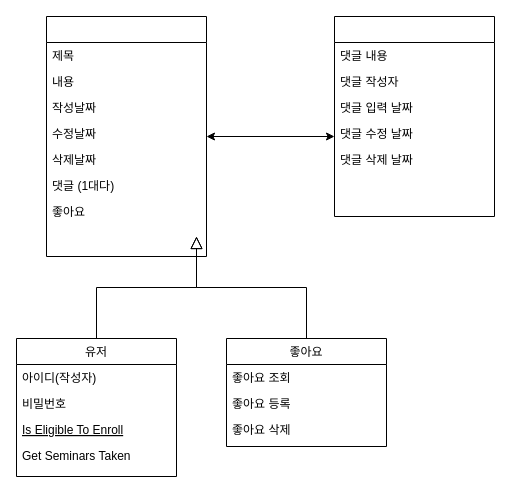
Some shapes in this 511 by 493 pixel diagram are drawn without their labels. Each missing label, with the box of its shape:
게시판: (46, 16, 206, 256)
댓글: (334, 16, 494, 216)
